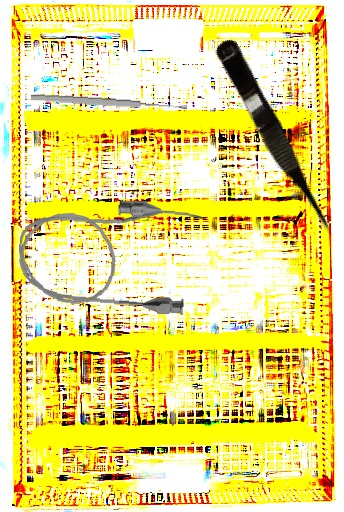Cannula: (15, 192, 203, 317)
Micro Scissor: (207, 35, 342, 246)
Surgical Spoon: (30, 92, 188, 113)
